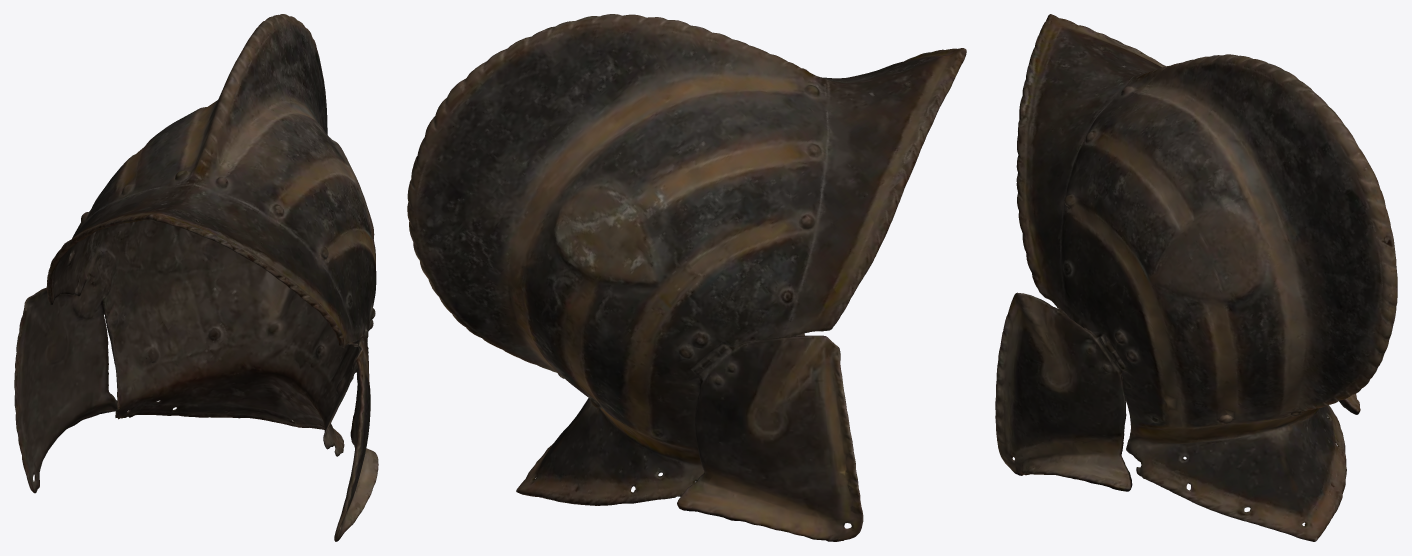
The model's file is black-and-white-burgonet.glb.
3 renders of one model, left to right at view 1: azimuth 30°, elevation 25°; view 2: azimuth 150°, elevation 25°; view 3: azimuth 270°, elevation 25°, orthographic. The views are drawn at different scales.
Visible parts, largest first — view 1: Object_2; view 2: Object_2; view 3: Object_2.
Boxes of the visible parts, x1,y1,x2,y2 form: Object_2: (14, 14, 378, 541); Object_2: (407, 14, 966, 541); Object_2: (995, 14, 1397, 541).
Size of the model in its own units: 0.2537 by 0.2912 by 0.238.
Materials: 1 (1 with a texture image).
